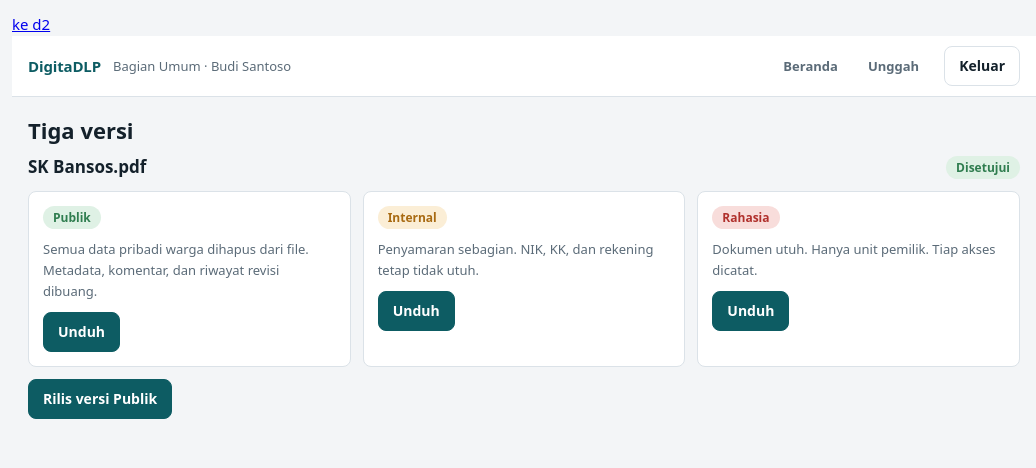
Scenario: blocked state resets when navigating to another document
Expected: the heading "SK Bansos.pdf" is shown, [28, 157, 146, 178]
Click the button "Unduh" below "Rahasia": (751, 311) [712, 291, 789, 331]
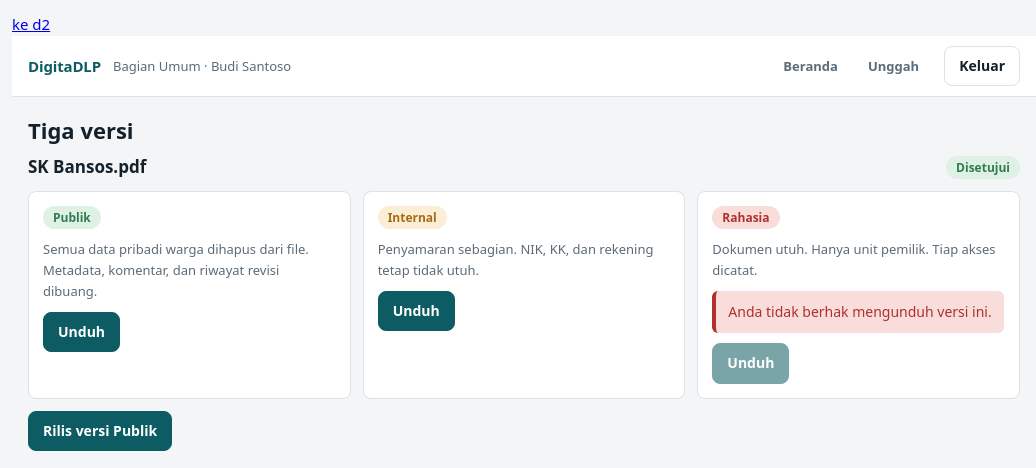
Expected: the text "Anda tidak berhak mengunduh versi ini." is shown, [712, 291, 1004, 333]
Click the link "ke d2": (31, 24) [12, 14, 50, 34]
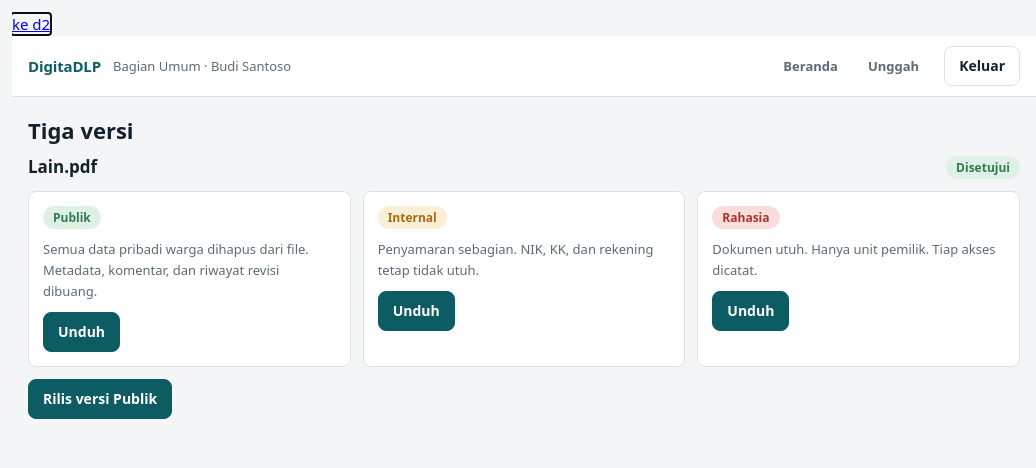
Expected: the heading "Lain.pdf" is shown, [28, 157, 97, 178]
Expected: the text "Anda tidak berhak mengunduh versi ini." is gone
Expected: the button "Unduh" below "Rahasia" is enabled, [712, 291, 789, 331]
